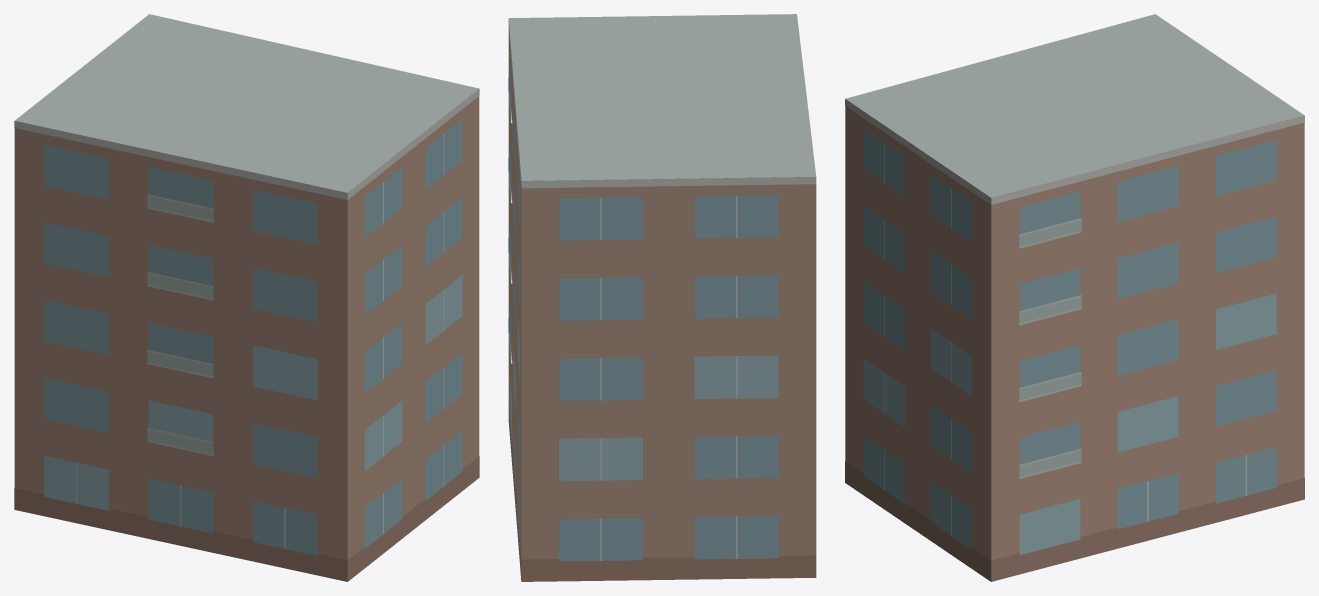
Rendered from survey-upis-32735176.glb.
3 renders of one model, left to right at view 1: azimuth 30°, elevation 25°; view 2: azimuth 150°, elevation 25°; view 3: azimuth 270°, elevation 25°, orthographic. The views are drawn at different scales.
Parts seen in each view (by area): view 1: survey-upis-32735176.tmp; view 2: survey-upis-32735176.tmp; view 3: survey-upis-32735176.tmp.
Boxes of the visible parts, <box> form: survey-upis-32735176.tmp: <box>14,14,479,581</box>; survey-upis-32735176.tmp: <box>508,14,816,581</box>; survey-upis-32735176.tmp: <box>845,14,1304,581</box>.
Size of the model in its own units: 13.56 by 13.2 by 14.33.
